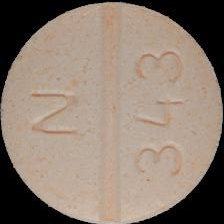0615-4509: (0, 0, 224, 224)
